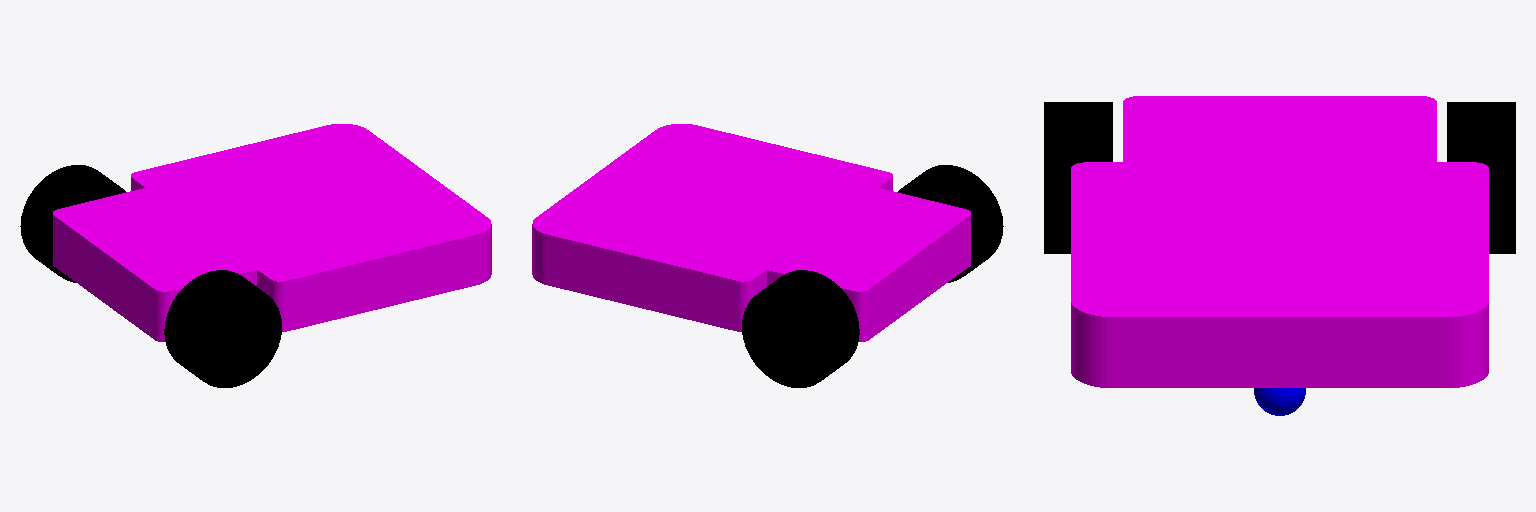
robot.urdf — follower:
<robot name="follower">

    <!--Materials-->

    <material name="red">
        <color rgba="1 0 0 1"/>
    </material>

    <material name="blue">
        <color rgba="0 0 1 1"/>
    </material>

    <material name="black">
        <color rgba="0 0 0 1"/>
    </material>

    <material name="magenta">
        <color rgba="1 0 1 1"/>
    </material>

    <!--Links-->
    <link name="base">
        <inertial>
            <mass value="1e-6"/>
            <inertia ixx="0.0" ixy="0.0" ixz="0.0" iyy="0.0" iyz="0.0" izz="0.0"/>
        </inertial>
    </link>

    <link name="chassis">
        <visual>
            <geometry>
                <!--<box size="0.1 0.08 0.015"/>-->
                <mesh filename="chassis.dae"/>
            </geometry>
            <material name="magenta"/>
            <origin rpy="0 0 3.14159" xyz="0 0 0"/>
        </visual>
        <collision>
            <geometry>
                <box size="0.1 0.08 0.025"/>
            </geometry>
        </collision>
        <inertial>
            <mass value="0.290"/>
            <inertia ixx="0.0" ixy="0.0" ixz="0.0" iyy="0.0" iyz="0.0" izz="6e-4"/>
        </inertial>
    </link>

    <link name="left_wheel">
        <visual>
            <geometry>
                <cylinder length="0.013" radius="0.0145"/>
            </geometry>
            <material name="black"/>
        </visual>
        <collision>
            <geometry>
                <cylinder length="0.013" radius="0.0145"/>
            </geometry>
        </collision>
        <contact>
          <lateral_friction value="0.6"/>
          <rolling_friction value="0.0"/>
          <stiffness value="300000"/>
          <damping value="1000"/>
        </contact>
        <inertial>
            <mass value="0.01"/>
            <inertia ixx="0.0" ixy="0.0" ixz="0.0" iyy="0.0" iyz="0.0" izz="1e-6"/>
        </inertial>
    </link>

    <link name="right_wheel">
        <visual>
            <geometry>
                <cylinder length="0.013" radius="0.0145"/>
            </geometry>
            <material name="black"/>
        </visual>
        <collision>
            <geometry>
                <cylinder length="0.013" radius="0.0145"/>
            </geometry>
        </collision>
        <contact>
          <lateral_friction value="0.6"/>
          <rolling_friction value="0.0"/>
          <stiffness value="300000"/>
          <damping value="1000"/>
        </contact>
        <inertial>
            <mass value="0.01"/>
            <inertia ixx="0.0" ixy="0.0" ixz="0.0" iyy="0.0" iyz="0.0" izz="1e-6"/>
        </inertial>
    </link>

    <link name="caster">
        <visual>
            <geometry>
                <sphere radius="0.005"/>
            </geometry>
            <material name="blue"/>
        </visual>
        <collision>
            <geometry>
                <sphere radius="0.005"/>
            </geometry>
        </collision>
        <contact>
          <lateral_friction value="0.0"/>
          <rolling_friction value="0.0"/>
          <stiffness value="300000"/>
          <damping value="1000"/>
        </contact>
        <inertial>
            <mass value="0.001"/>
            <inertia ixx="0.0" ixy="0.0" ixz="0.0" iyy="0.0" iyz="0.0" izz="0.0"/>
        </inertial>
    </link>


    <!--Joints-->
    <joint name="base_to_chassis" type="fixed">
        <parent link="base"/>
        <child link="chassis"/>
        <origin rpy="0 0 0" xyz="0.0355 0 0.0175"/>
    </joint>

    <joint name="chassis_to_left_wheel" type="continuous">
        <parent link="chassis"/>
        <child link="left_wheel"/>
        <origin rpy="1.5708 0 0" xyz="-0.0355 0.0385 -0.003"/>
        <axis xyz="0 0 1"/>
    </joint>

    <joint name="chassis_to_right_wheel" type="continuous">
        <parent link="chassis"/>
        <child link="right_wheel"/>
        <origin rpy="-1.5708 0 0" xyz="-0.0355 -0.0385 -0.003"/>
        <axis xyz="0 0 -1"/>
    </joint>

    <joint name="chassis_to_caster" type="fixed">
        <parent link="chassis"/>
        <child link="caster"/>
        <origin rpy="0 0 0" xyz="0.04 0 -0.0125"/>
    </joint>

</robot>

--- What the picture shows (computed from the rendered views, not written in the file) ---
3 views of the same robot in one strip: view 1: azimuth 30°, elevation 25°; view 2: azimuth 150°, elevation 25°; view 3: azimuth 270°, elevation 25° (orthographic).
Robot: follower — 5 links, 4 joints (2 continuous, 2 fixed); root link base; default pose: every joint at zero.
Visible links, largest first — view 1: chassis, right_wheel, left_wheel; view 2: chassis, left_wheel, right_wheel; view 3: chassis, left_wheel, right_wheel, caster.
Boxes of the visible links, x1,y1,x2,y2 form: chassis: (53, 124, 491, 341); right_wheel: (164, 270, 281, 387); left_wheel: (20, 165, 125, 282); chassis: (532, 124, 970, 341); left_wheel: (742, 270, 859, 387); right_wheel: (898, 165, 1003, 282); chassis: (1071, 96, 1488, 387); left_wheel: (1447, 102, 1515, 253); right_wheel: (1044, 102, 1112, 253); caster: (1254, 388, 1305, 415).
Size in the robot's own frame: 0.1 by 0.09 by 0.029 metres.
1 mesh visuals loaded from 1 distinct referenced files (1 Collada DAE).